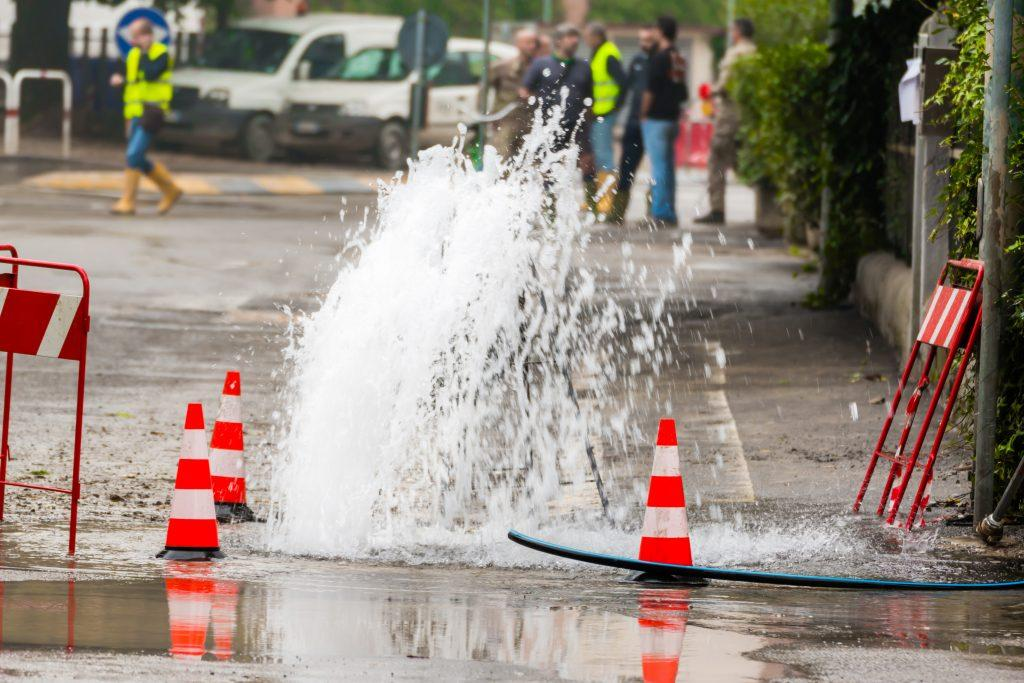water_leak: (257, 88, 640, 565)
